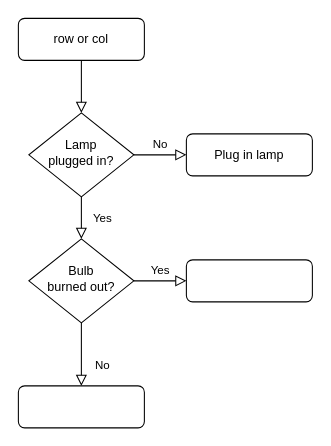
Image size: 331x446. Some labels were removed from this diagram. Each missing label, with the centre of its shape:
Repair Lamp: (80,406)
Replace Bulb: (248,280)
